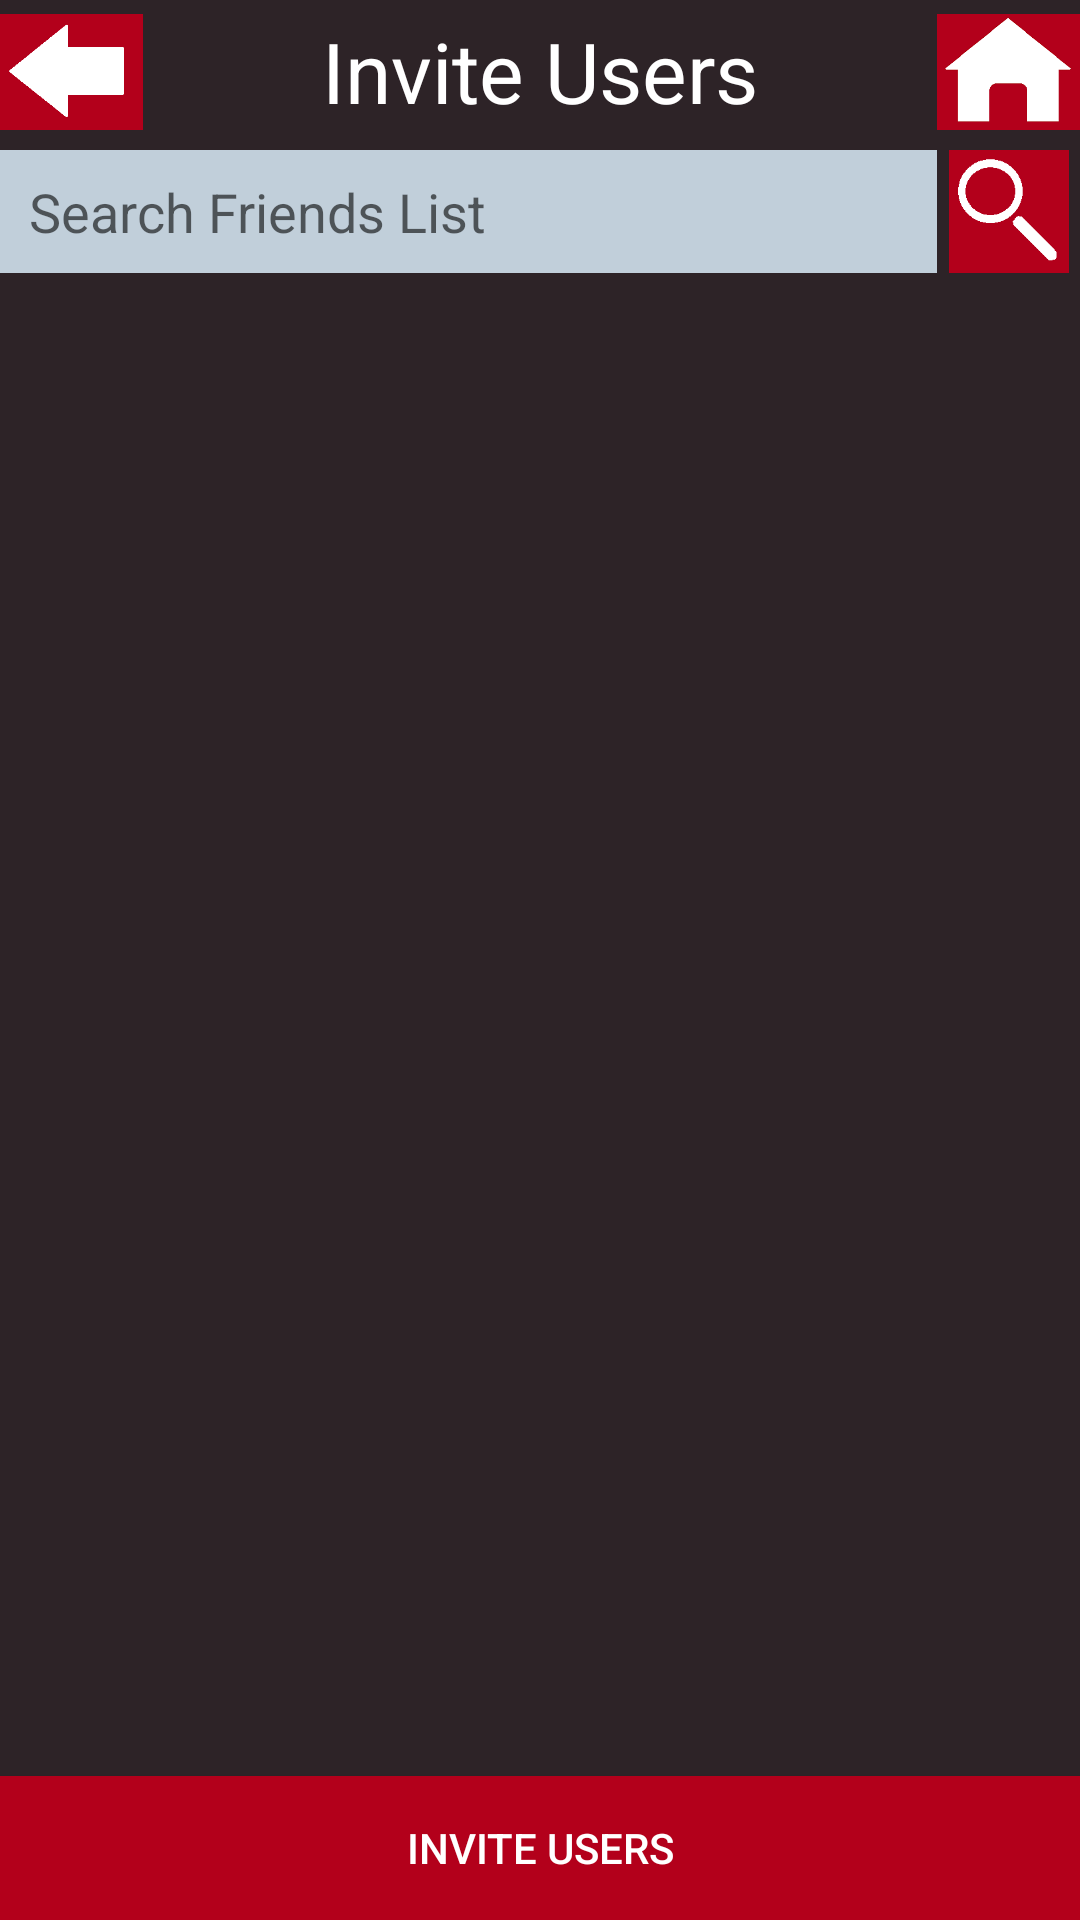

Icon click points for this 1080 x 1920 phone screenshot, format [x,y]:
back: [71,72]
home: [1008,72]
